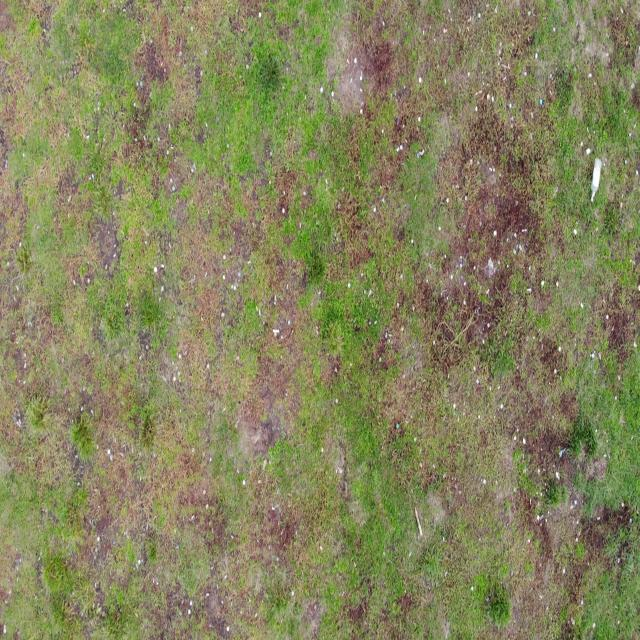rubbish: (590, 157, 602, 202)
